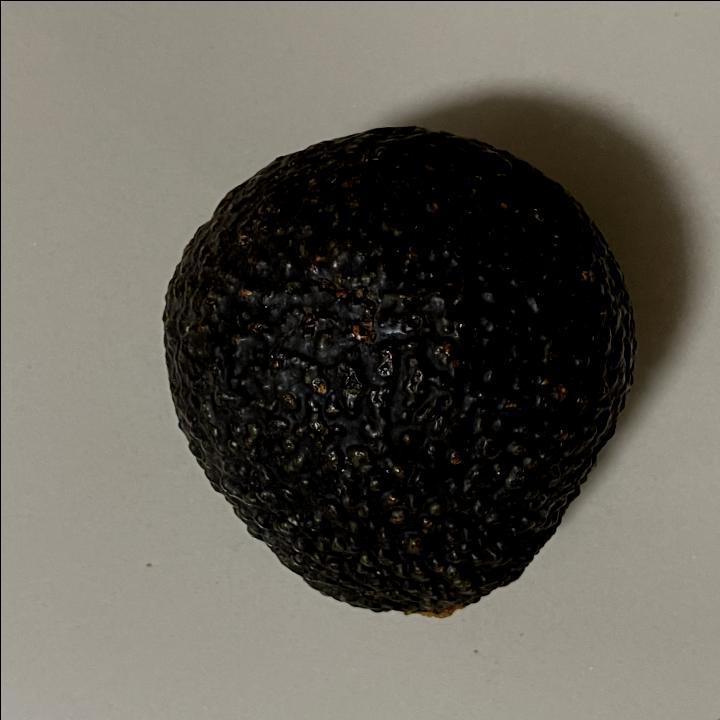Level1: (142, 112, 646, 629)
